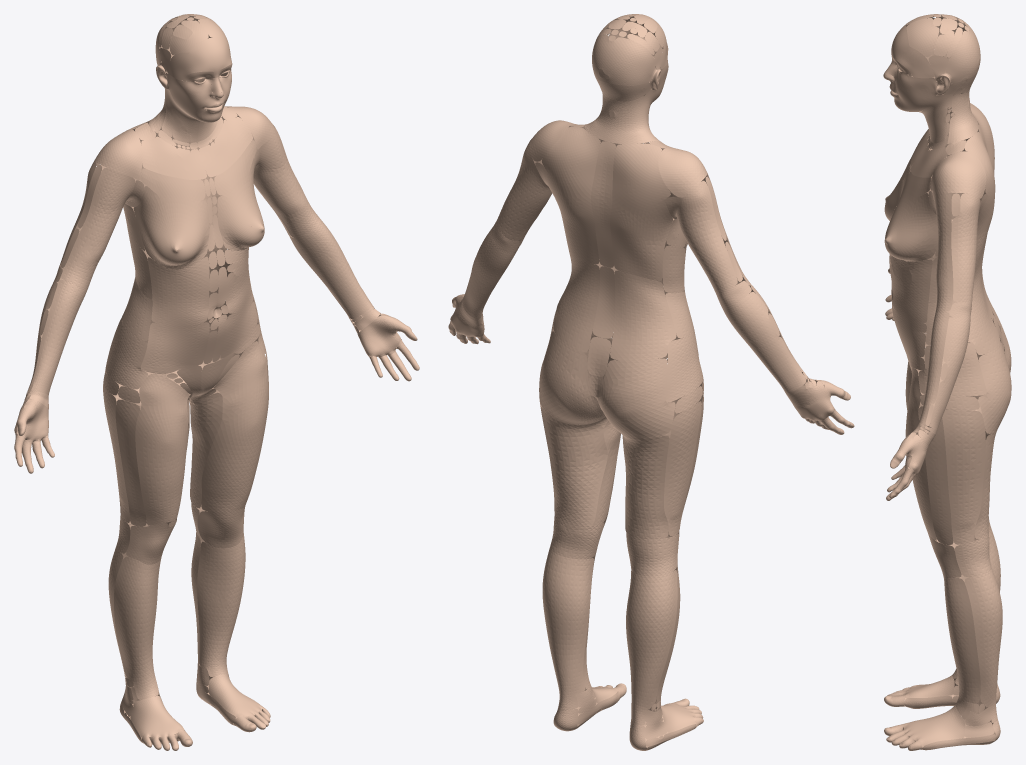
The model's file is test2-female-body.glb.
The picture shows the model from 3 angles, left to right: view 1: azimuth 30°, elevation 25°; view 2: azimuth 150°, elevation 25°; view 3: azimuth 270°, elevation 25°; orthographic projection.
Visible parts, largest first — view 1: 左大腿前側', 右大腿前側, 右胸, 右小腿前側, 左小腿前側, 右上臂前側, 左胸, 右上腹, 左上臂前側, 右大腿側面, 左前臂前側, 右前臂前側 (+25 smaller); view 2: 右上背, 左小腿後側, 右小腿後側, 左大腿後側, 左上背, 右臀, 右下背, 右大腿後側, 右上臂後側, 左臀, 右前臂後側, 右大腿側面 (+20 smaller); view 3: 左大腿側面, 左小腿後側, 左胸, 左小腿前側, 左上臂後側, 左上腹, 左肩, 左臀, 左髖, 左前臂後側, 左上臂前側, 左頂骨 (+35 smaller).
Part boxes in pixels (x1,y1,x2,y2): 左大腿前側': (201, 341, 268, 512); 右大腿前側: (135, 374, 188, 525); 右胸: (133, 168, 209, 269); 右小腿前側: (114, 557, 161, 700); 左小腿前側: (197, 533, 245, 676); 右上臂前側: (61, 168, 134, 291); 左胸: (214, 140, 264, 250); 右上腹: (147, 256, 209, 325); 左上臂前側: (253, 127, 318, 237); 右大腿側面: (103, 386, 146, 526); 左前臂前側: (290, 216, 372, 319); 右前臂前側: (28, 280, 86, 394); 右上背: (610, 143, 672, 280); 左小腿後側: (542, 548, 593, 710); 右小腿後側: (626, 570, 677, 725); 左大腿後側: (541, 407, 608, 525); 左上背: (542, 126, 600, 264); 右臀: (597, 358, 675, 439); 右下背: (610, 270, 676, 360); 右大腿後側: (622, 435, 669, 539); 右上臂後側: (676, 176, 742, 295); 左臀: (539, 331, 605, 423); 右前臂後側: (723, 292, 806, 392); 右大腿側面: (664, 395, 703, 536); 左大腿側面: (918, 406, 985, 544); 左小腿後側: (965, 568, 1002, 722); 左胸: (884, 171, 938, 261); 左小腿前側: (944, 573, 980, 719); 左上臂後側: (951, 193, 980, 304); 左上腹: (890, 255, 932, 322); 左肩: (930, 140, 986, 198); 左臀: (977, 341, 1011, 433); 左髖: (918, 342, 986, 410); 左前臂後側: (929, 317, 970, 429); 左上臂前側: (932, 191, 953, 315); 左頂骨: (906, 17, 963, 57).
Size of the model in its own units: 1.09 by 1.84 by 0.3019.
